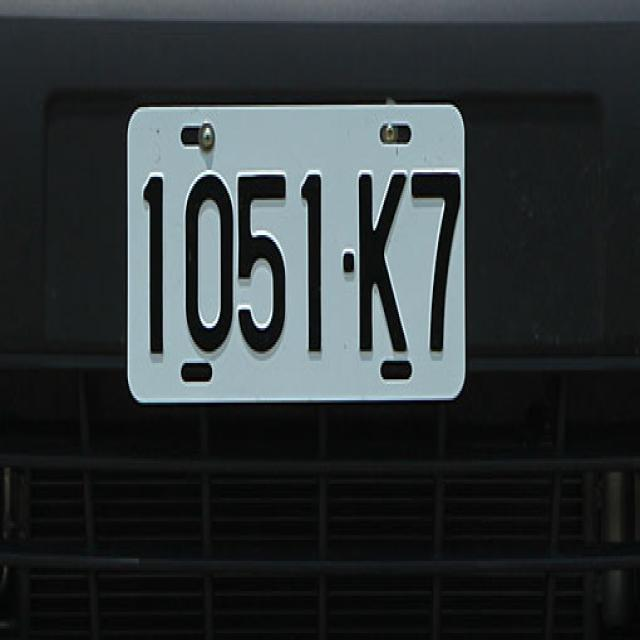license-plate: (112, 80, 469, 427)
